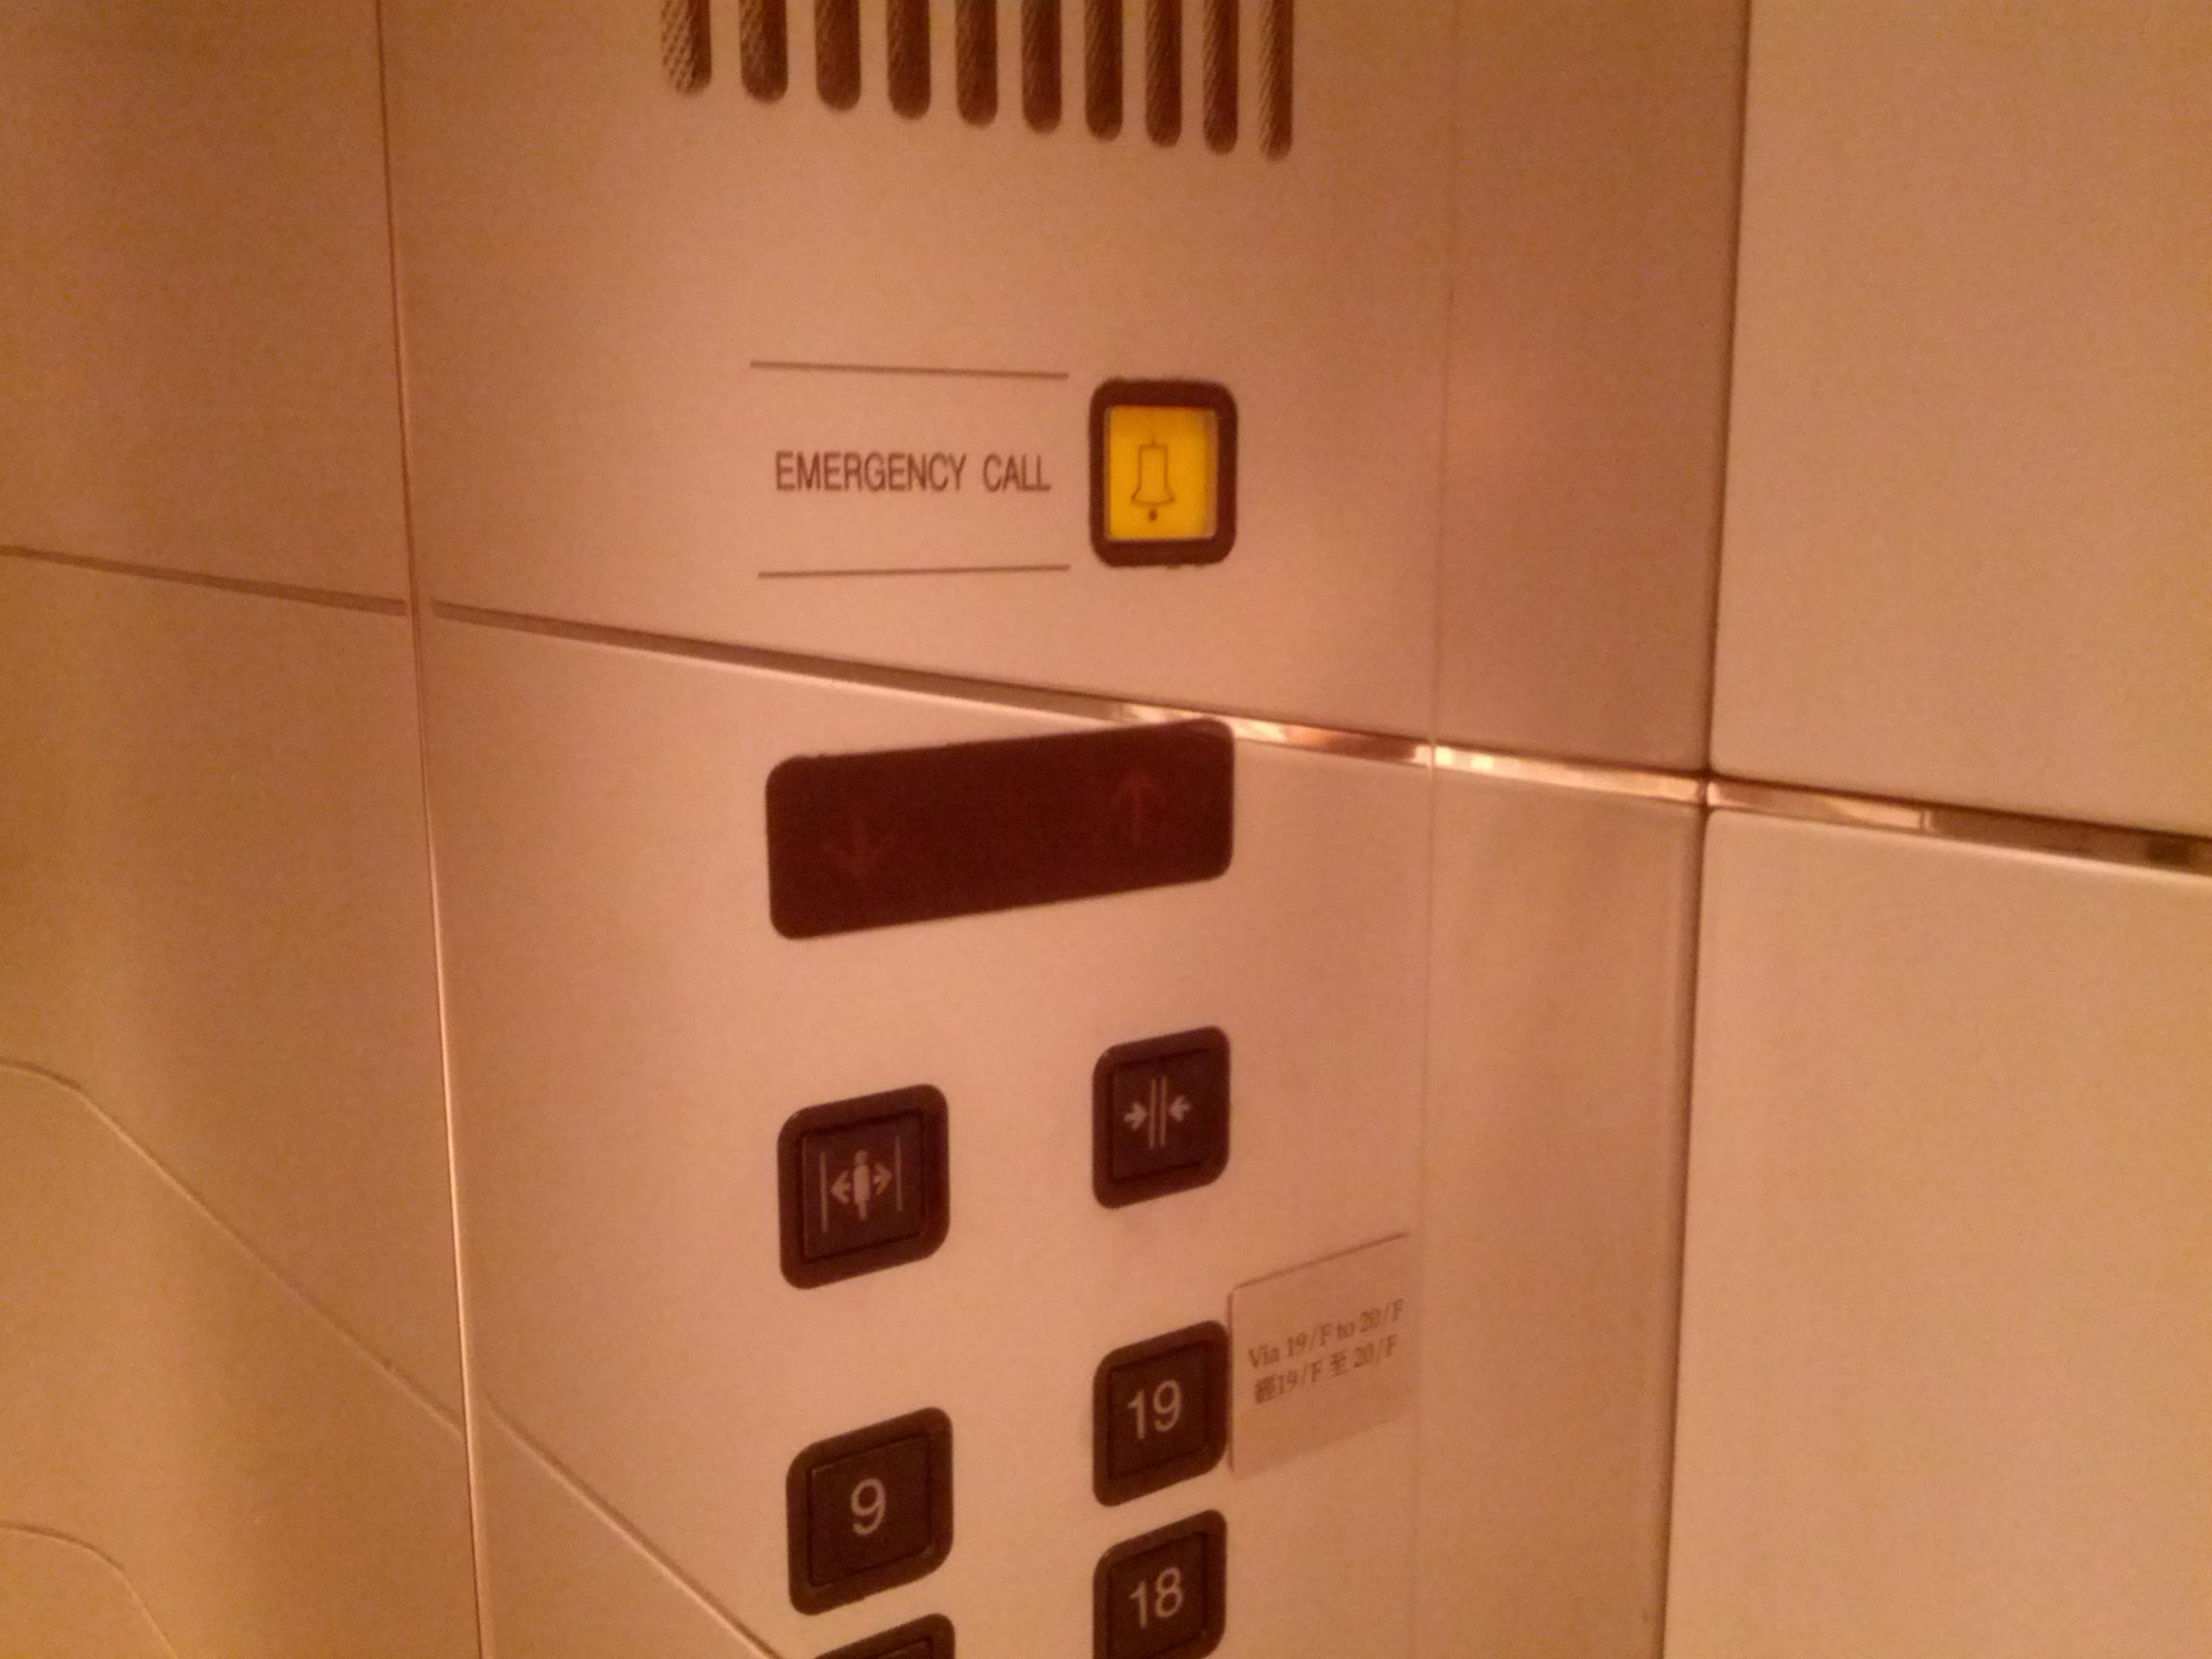18: (1083, 1499, 1237, 1659)
19: (1083, 1314, 1240, 1514)
9: (779, 1398, 963, 1624)
alarm: (1082, 364, 1245, 579)
close: (1083, 1018, 1237, 1216)
led: (754, 709, 1244, 948)
open: (768, 1077, 958, 1297)
